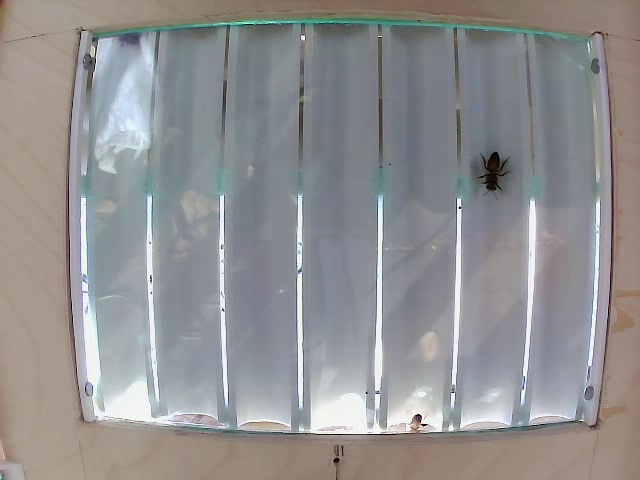bee: (474, 155, 514, 228), (405, 410, 429, 440)
